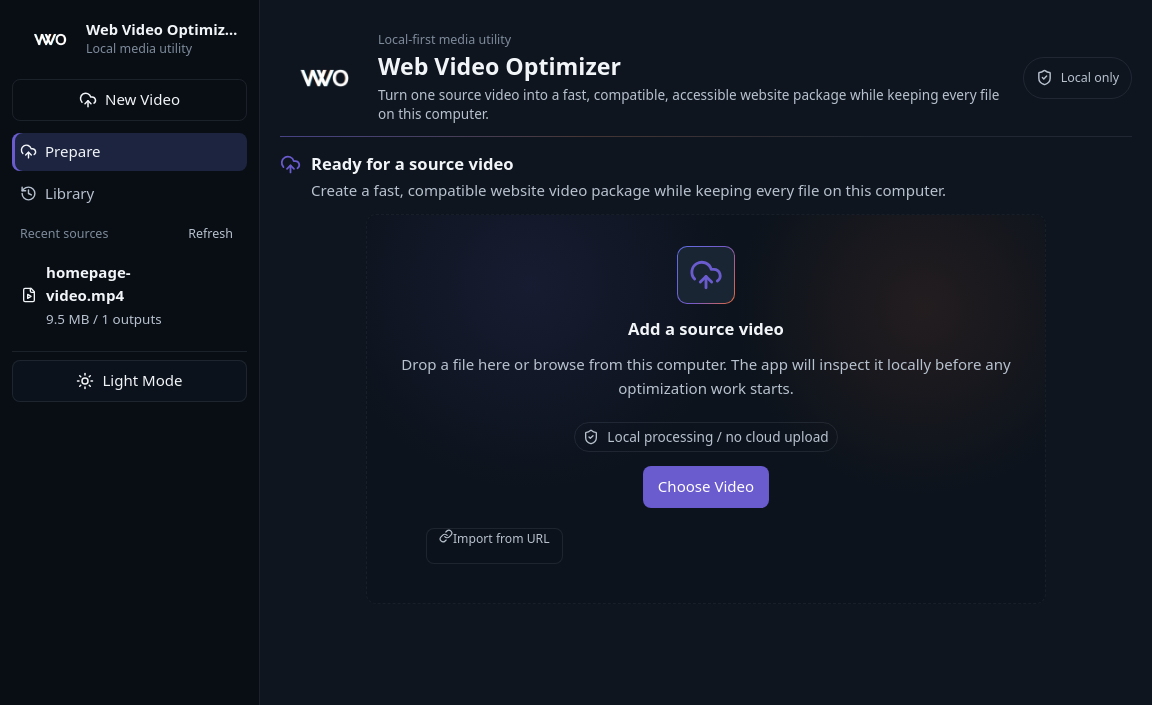
Test: App behavior › restores history sources with outputs directly to inline results
The width and height of the screenshot is (1152, 705).
Click the button "homepage-video.mp4 9.5 MB / 1 outputs" at (108,295), box [13,252,204,338]
(page scrolled)
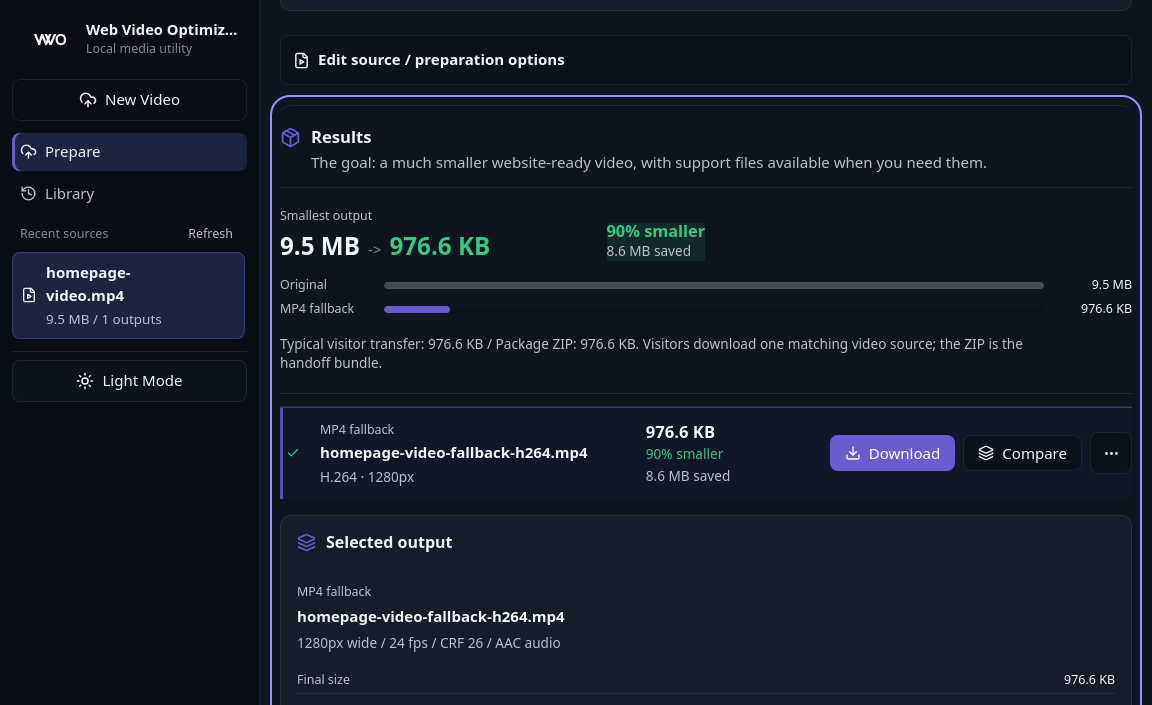
Expected: the heading "Results" is shown, [311,125,372,148]
